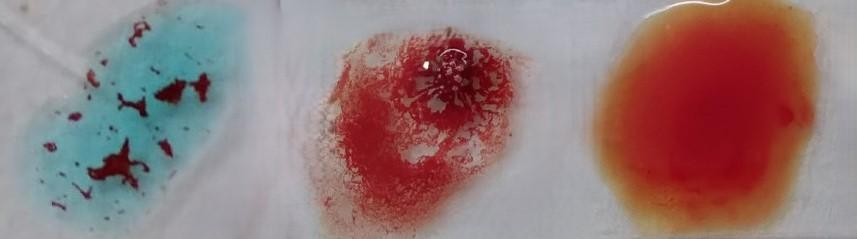A: (39, 0, 225, 233)
D: (318, 24, 508, 235)
